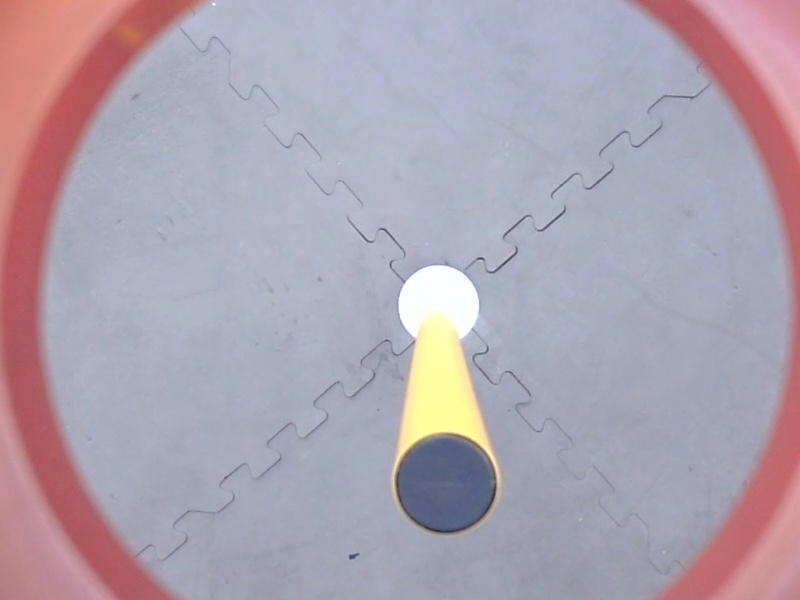tip: (385, 428, 507, 543)
